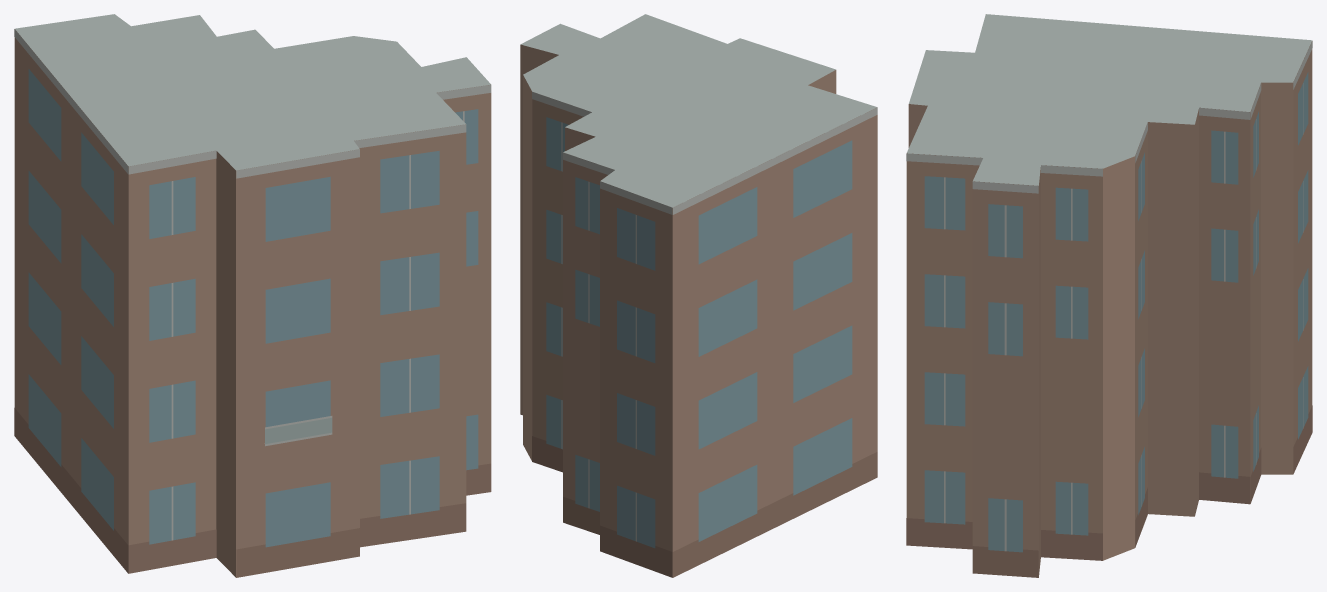
File: survey-upis-32571202.glb
The picture shows the model from 3 angles, left to right: view 1: azimuth 30°, elevation 25°; view 2: azimuth 150°, elevation 25°; view 3: azimuth 270°, elevation 25°; orthographic projection. The views are drawn at different scales.
Parts seen in each view (by area): view 1: survey-upis-32571202.tmp; view 2: survey-upis-32571202.tmp; view 3: survey-upis-32571202.tmp.
Boxes of the visible parts, x1,y1,x2,y2 form: survey-upis-32571202.tmp: [14, 14, 491, 577]; survey-upis-32571202.tmp: [520, 14, 877, 577]; survey-upis-32571202.tmp: [906, 14, 1312, 577].
Bounding box in the file's own units: 11.47 × 12.2 × 11.46.
